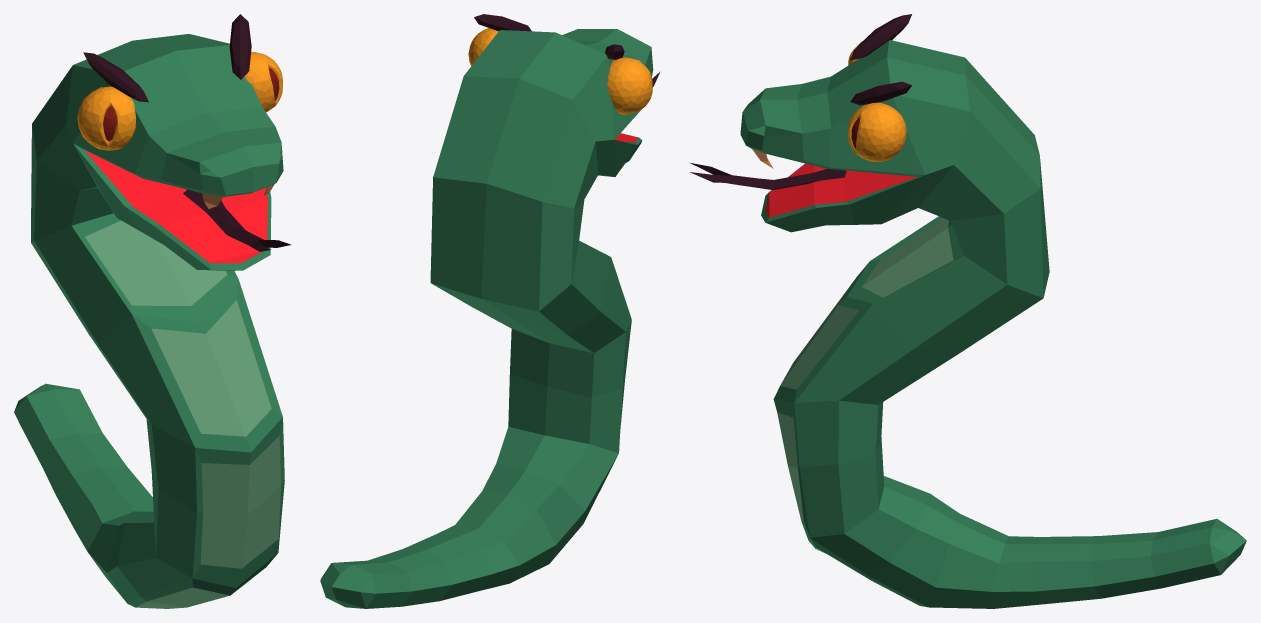
Rendered from Snake_Angry_000002.obj.
The picture shows the model from 3 angles, left to right: view 1: azimuth 30°, elevation 25°; view 2: azimuth 150°, elevation 25°; view 3: azimuth 270°, elevation 25°; orthographic projection. The views are drawn at different scales.
Parts seen in each view (by area): view 1: Snake_Cylinder; view 2: Snake_Cylinder; view 3: Snake_Cylinder.
Boxes of the visible parts, left/top/right/bottom form: Snake_Cylinder: left=14, top=14, right=291, bottom=608; Snake_Cylinder: left=320, top=14, right=660, bottom=608; Snake_Cylinder: left=689, top=14, right=1246, bottom=608.
Size of the model in its own units: 1.05 by 2.98 by 2.76.
